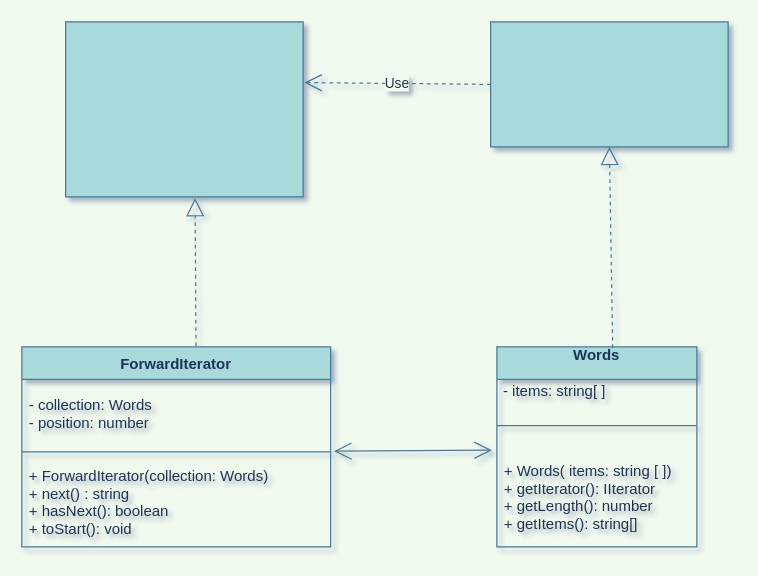
Some shapes in this 758 by 576 pixel diagram are drawn without their labels. The centre of each missing label's shape, as x and y in pixels:
<<Interface>> IIterable + getIterator(): IIterator: the point at 608,84
<<Interface>> IIterator + next() : string + hasNext(): boolean + toStart(): void: the point at 183,109
